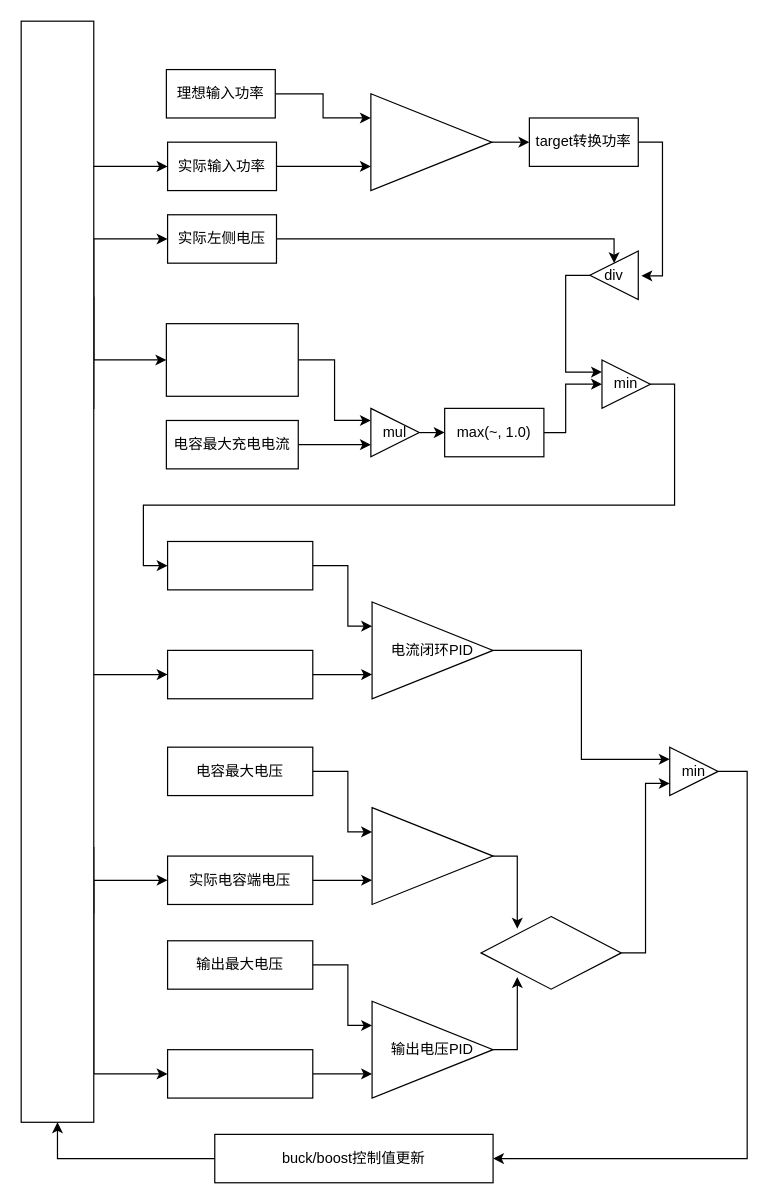
Image size: 778x1204. Some labels were removed from this diagram. Each missing label, with the centre of its shape:
target左侧电流: [239,565]
功率闭环PID: [431,142]
实际左侧电压 divided by 实际右侧电压: [231,359]
实际左侧电流: [239,674]
实际输出电压: [239,1073]
当前模式 充电/放电: [550,952]
电 路: [57,571]
电容电压PID: [432,855]
